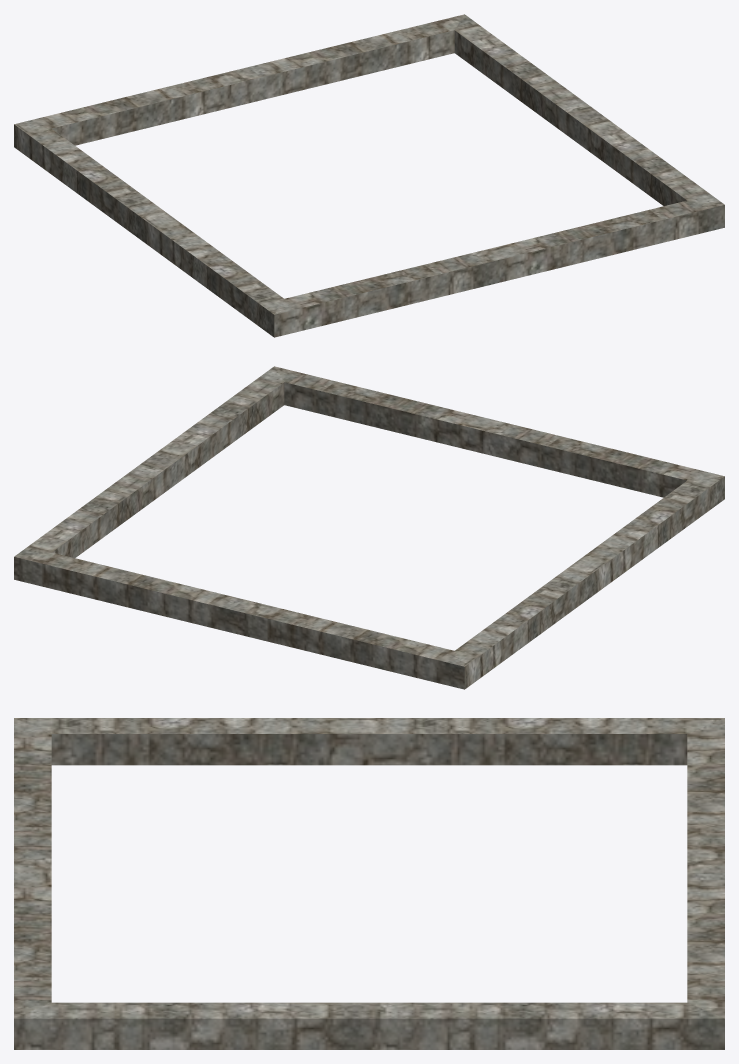
The model's file is stone_floor_frame_square_textured.glb.
The picture shows the model from 3 angles, top to bottom: view 1: azimuth 30°, elevation 25°; view 2: azimuth 150°, elevation 25°; view 3: azimuth 270°, elevation 25°; orthographic projection. The views are drawn at different scales.
Visible parts, largest first — view 1: Cube.001; view 2: Cube.001; view 3: Cube.001.
Boxes of the visible parts, x1=… form: Cube.001: x1=14, y1=14, x2=724, y2=337; Cube.001: x1=14, y1=366, x2=724, y2=689; Cube.001: x1=14, y1=718, x2=724, y2=1049.
Bounding box in the file's own units: 1.99 × 0.0969 × 1.99.
Materials: 1 (1 with a texture image).
